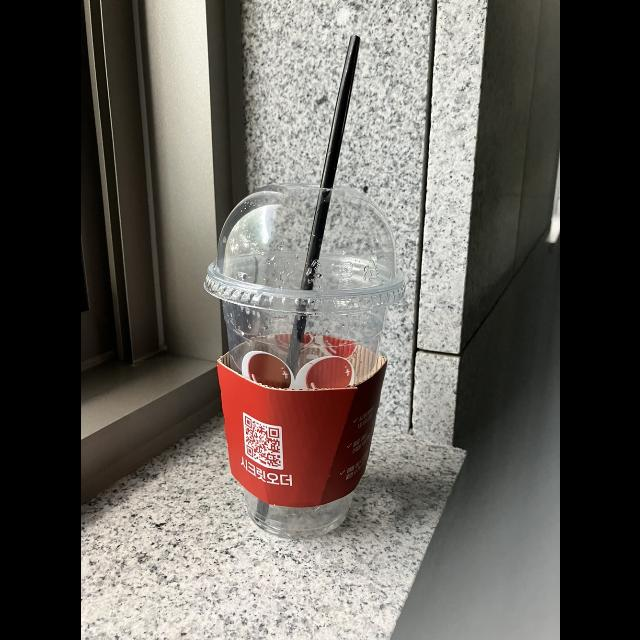plastic_cup: (202, 184, 410, 538)
plastic_cup_lid: (198, 182, 406, 314)
straw: (254, 36, 364, 538)
